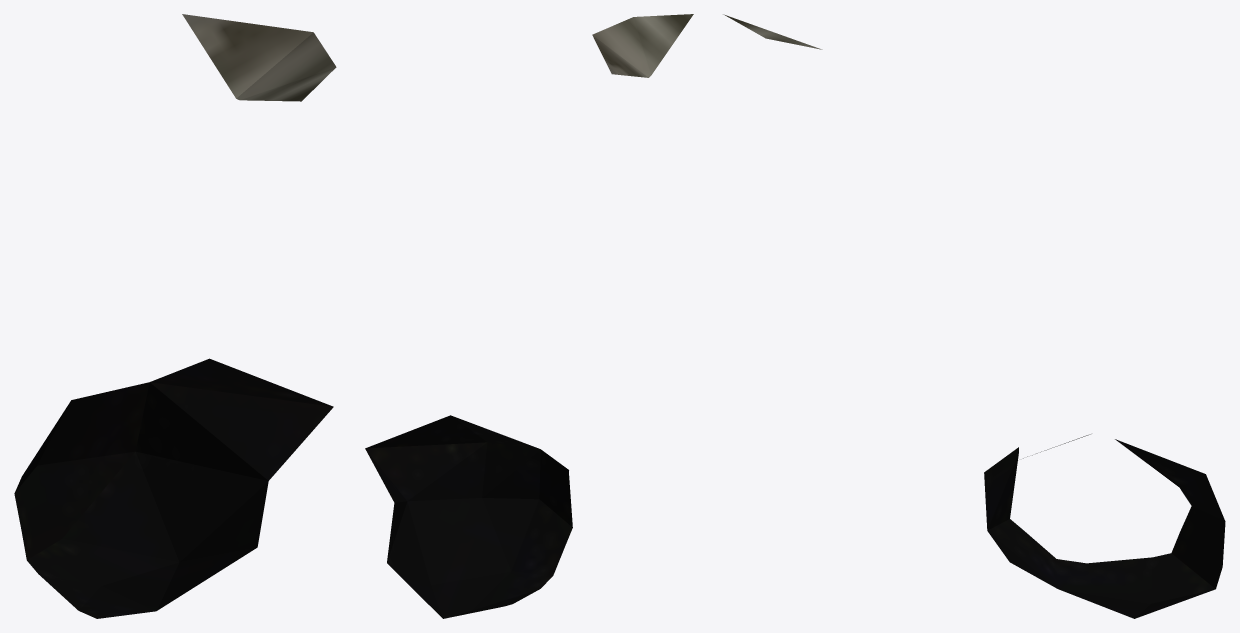
The picture shows the model from 3 angles, left to right: view 1: azimuth 30°, elevation 25°; view 2: azimuth 150°, elevation 25°; view 3: azimuth 270°, elevation 25°; orthographic projection. The views are drawn at different scales.
Bounding box in the file's own units: 0.2893 × 0.7491 × 0.6045.
1 material, 1 textured.
